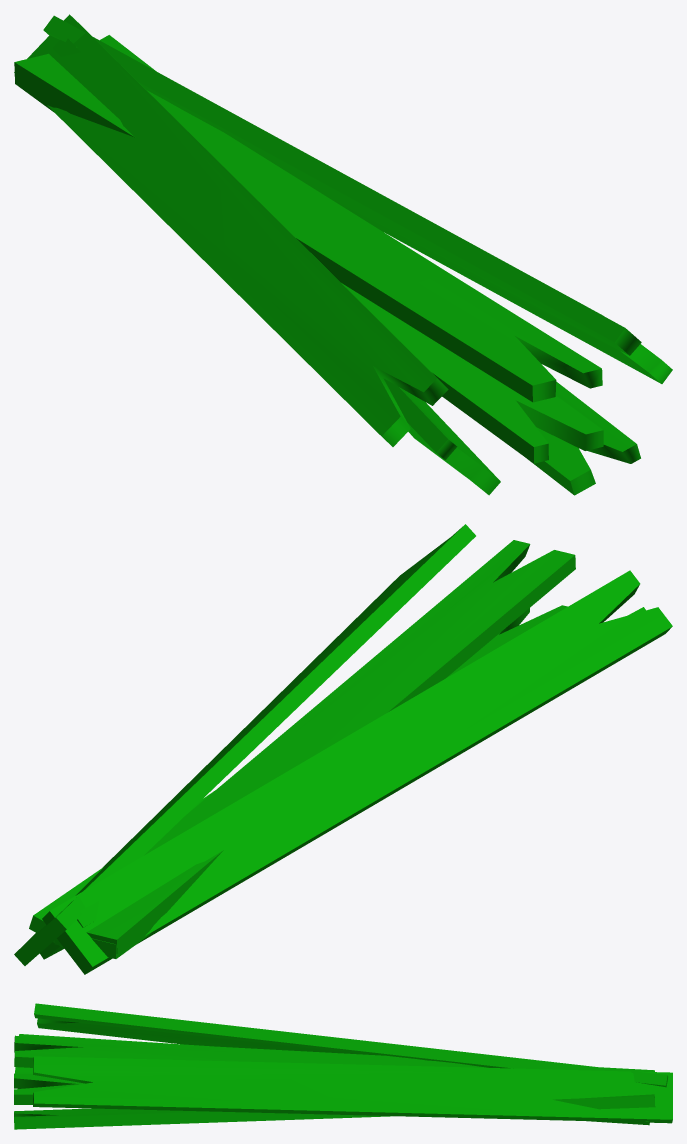
The model's file is gerzafi19_Salat.fbx.
The picture shows the model from 3 angles, top to bottom: view 1: azimuth 30°, elevation 25°; view 2: azimuth 150°, elevation 25°; view 3: azimuth 270°, elevation 25°; orthographic projection. The views are drawn at different scales.
Parts seen in each view (by area): view 1: pCube7; view 2: pCube7; view 3: pCube7.
Part boxes in pixels (x1,y1,x2,y2): pCube7: (14,14,672,495); pCube7: (14,524,672,974); pCube7: (14,1003,672,1129).
Bounding box in the file's own units: 2.71 × 1.26 × 8.72.
